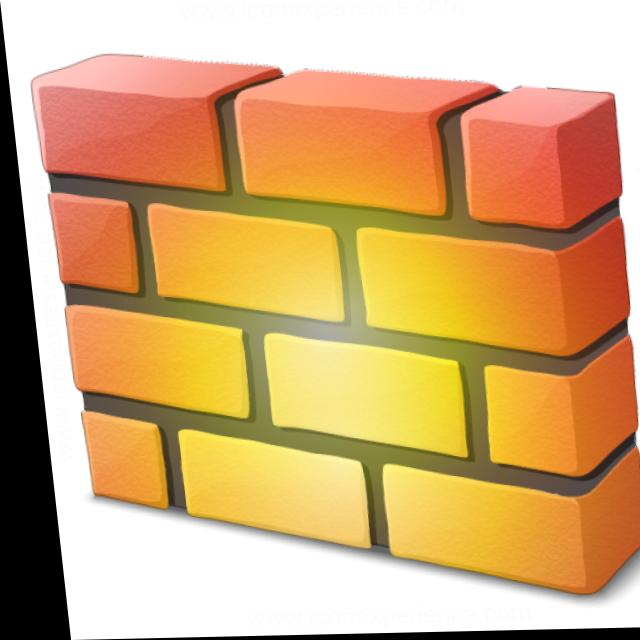Server: (4, 0, 640, 634)
